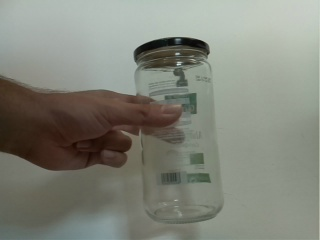pote cristal: (131, 35, 234, 226)
